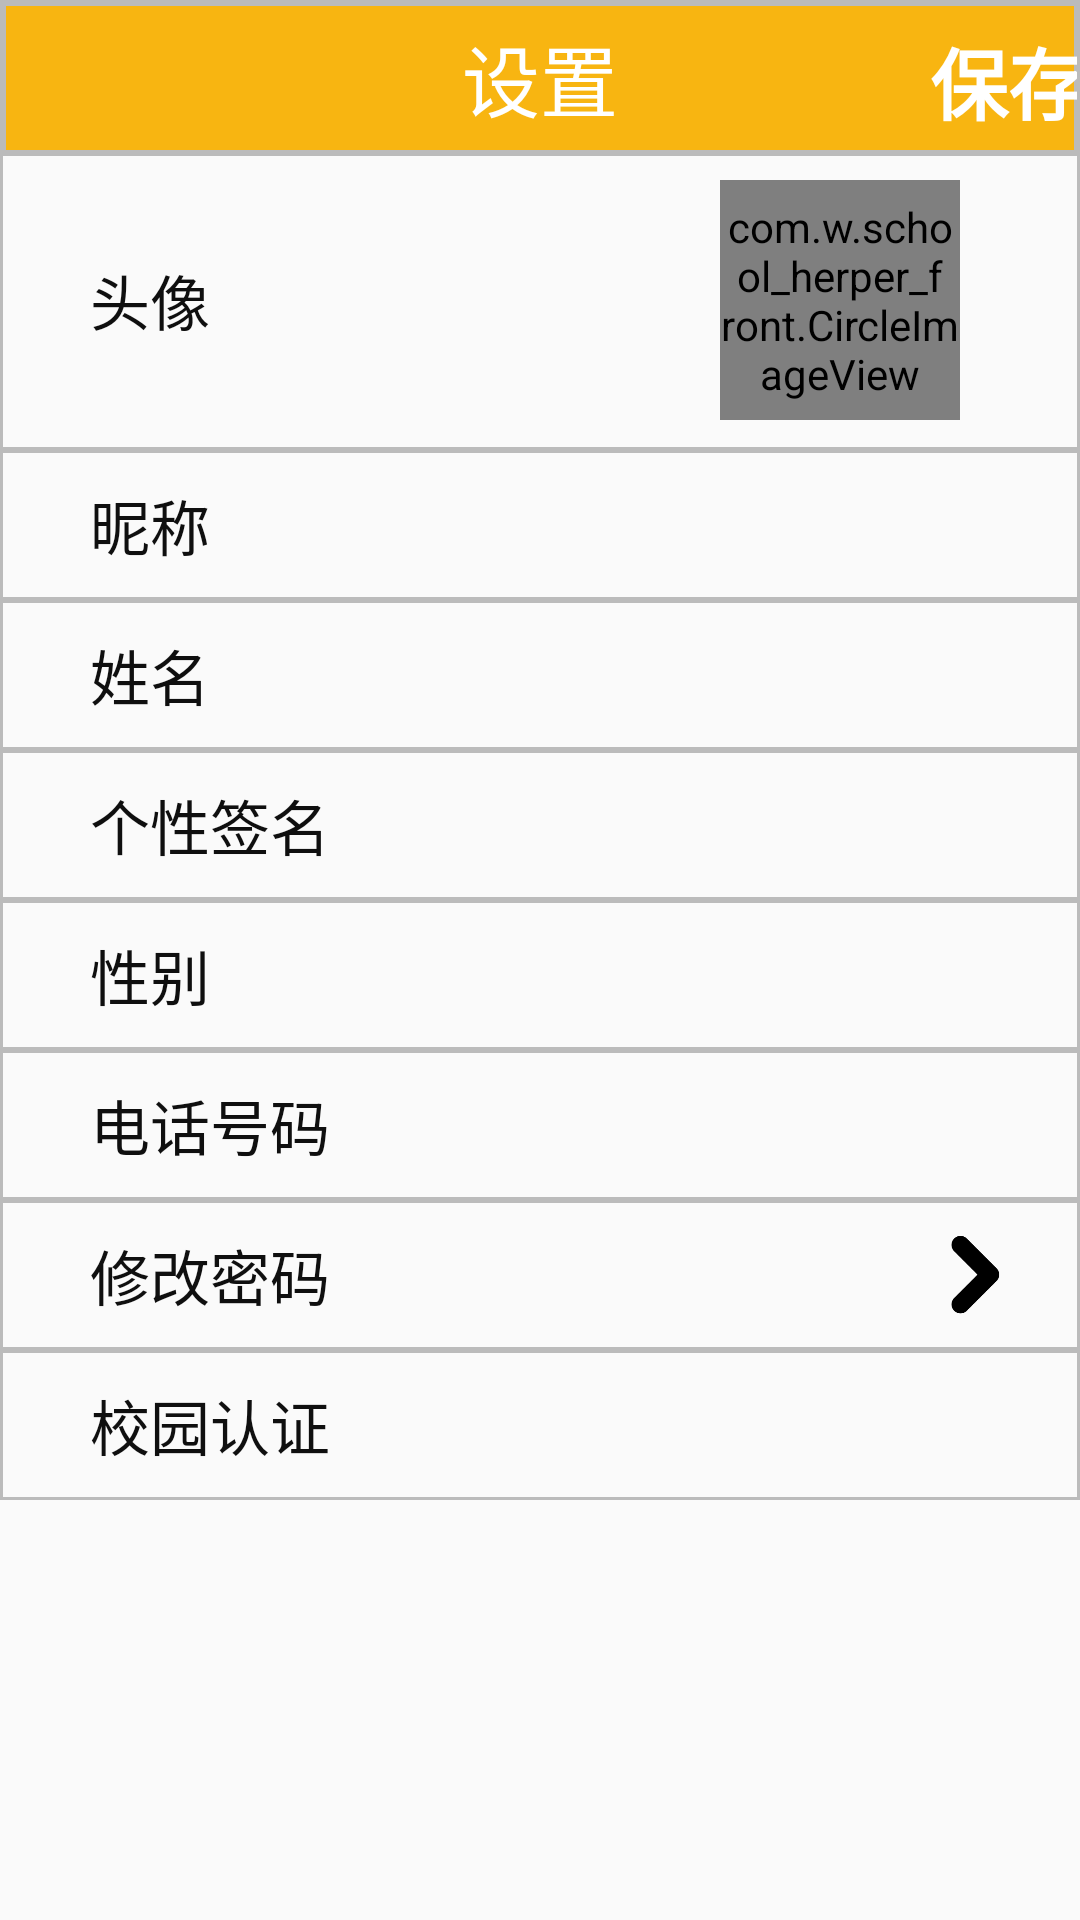

Where to tap for icons on this 1080 × 1920 app screen, as [x,y]:
tochange: [975,1275]
